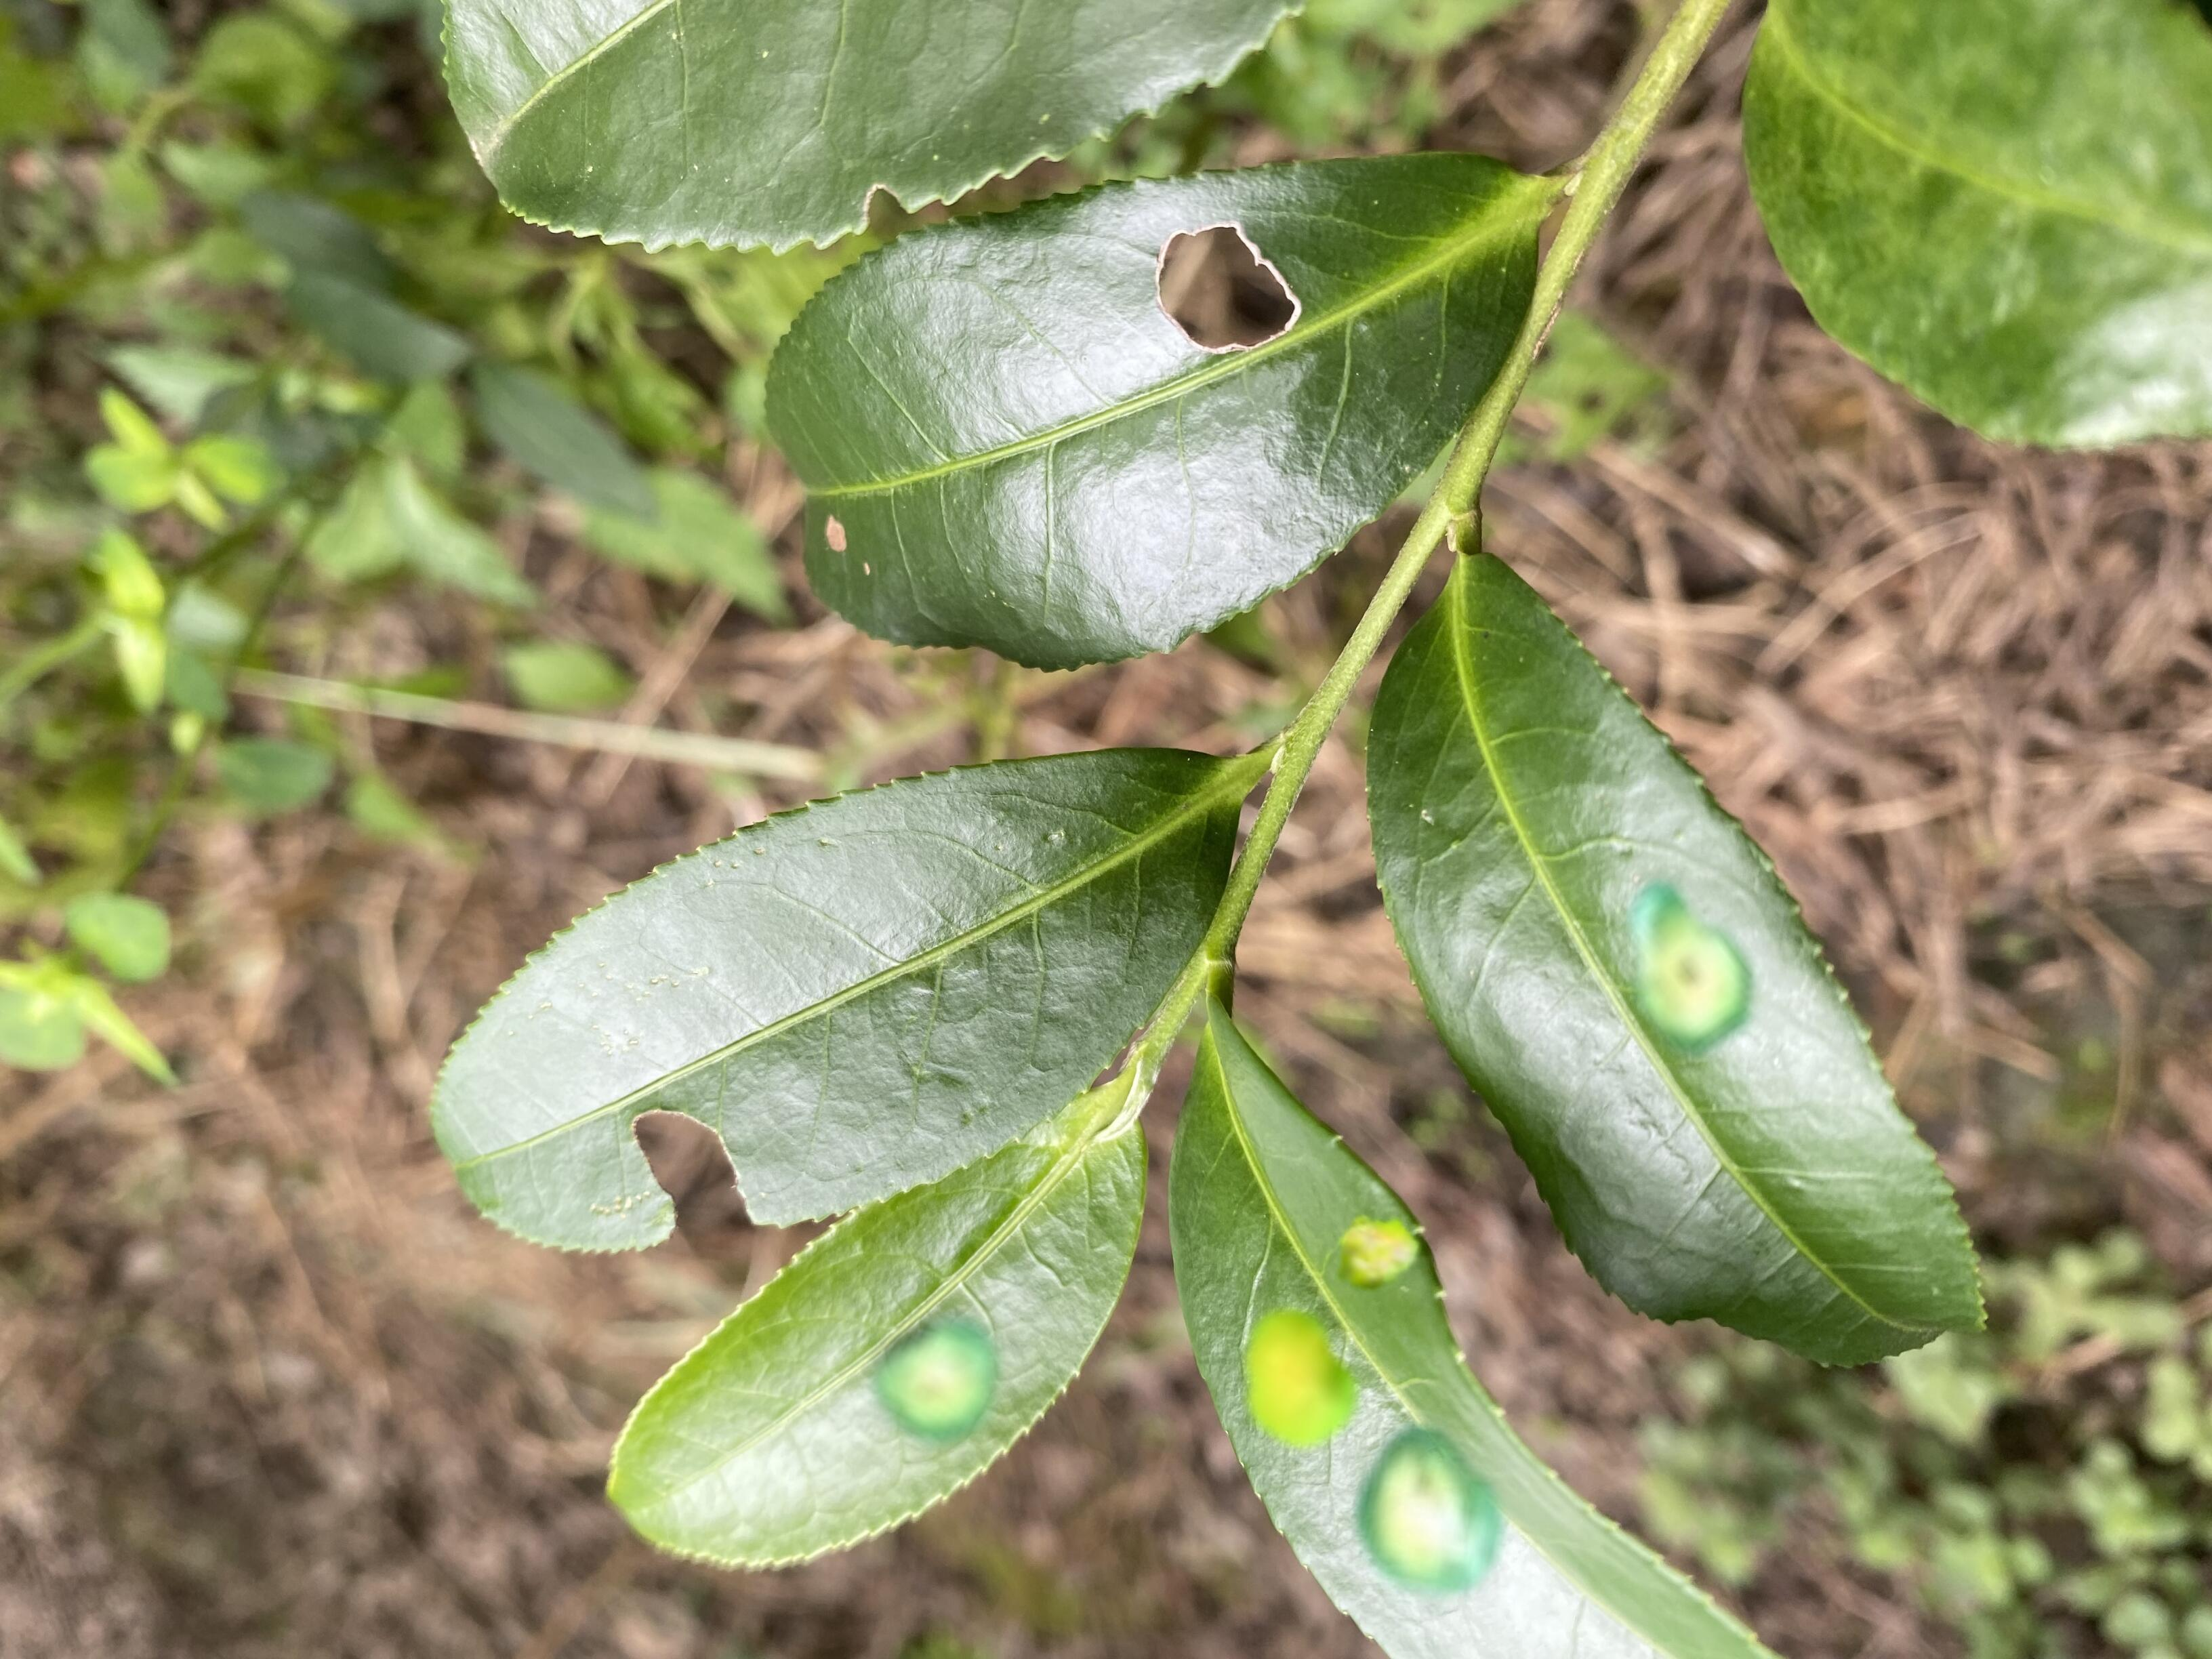chabing_high: (1167, 1021, 1782, 1659)
chabing_low: (1360, 552, 1993, 1373), (603, 1094, 1151, 1575)
chihuo_low: (756, 148, 1548, 678), (428, 748, 1244, 1255), (430, 2, 1308, 258)
